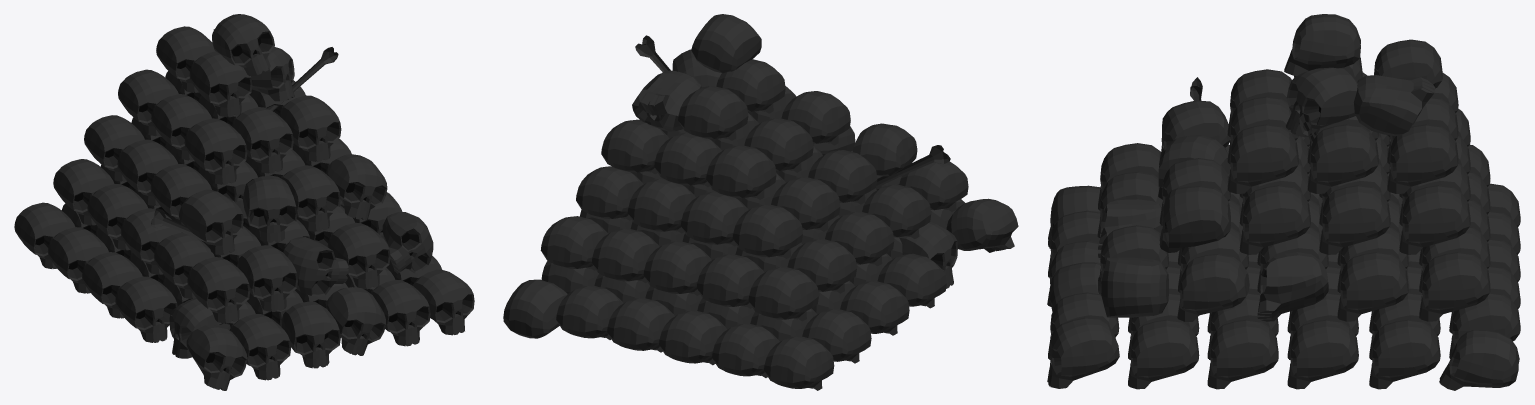
The model's file is SM_PyramidSkullBone_01.fbx.
3 views of the same model, side by side, from view 1: azimuth 30°, elevation 25°; view 2: azimuth 150°, elevation 25°; view 3: azimuth 270°, elevation 25° (orthographic). The views are drawn at different scales.
Visible parts, largest first — view 1: Piramide Calaberas; view 2: Piramide Calaberas; view 3: Piramide Calaberas.
Boxes of the visible parts, x1=… form: Piramide Calaberas: x1=14, y1=14, x2=474, y2=390; Piramide Calaberas: x1=503, y1=14, x2=1018, y2=390; Piramide Calaberas: x1=1047, y1=14, x2=1520, y2=390.
Bounding box in the file's own units: 1.47 × 1.31 × 1.81.
